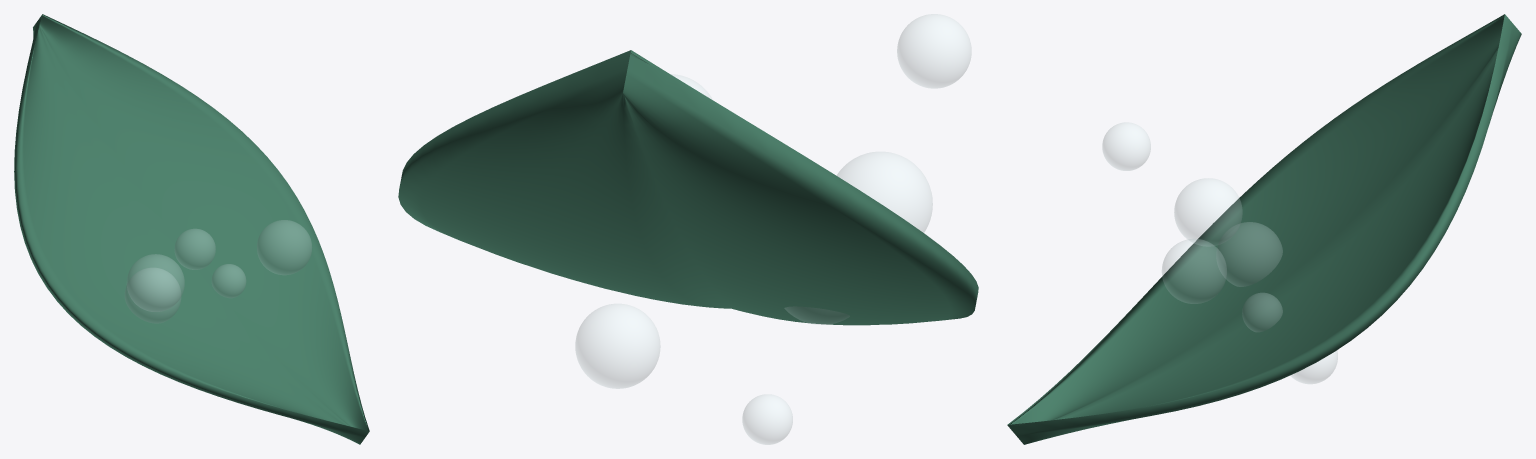
3 renders of one model, left to right at view 1: azimuth 30°, elevation 25°; view 2: azimuth 150°, elevation 25°; view 3: azimuth 270°, elevation 25°, orthographic. The views are drawn at different scales.
Visible parts, largest first — view 1: dew-leaf, dew-drop-4, dew-drop-2, dew-drop-1, dew-drop-5, dew-drop-3; view 2: dew-leaf, dew-drop-0, dew-drop-5, dew-drop-4, dew-drop-6, dew-drop-2; view 3: dew-leaf, dew-drop-4, dew-drop-1, dew-drop-2, dew-drop-5, dew-drop-3, dew-drop-0.
Part boxes in pixels (bbox=[...]): dew-leaf: bbox=[14, 14, 369, 444]; dew-drop-4: bbox=[127, 254, 184, 311]; dew-drop-2: bbox=[125, 268, 180, 323]; dew-drop-1: bbox=[257, 220, 311, 274]; dew-drop-5: bbox=[174, 229, 215, 269]; dew-drop-3: bbox=[212, 264, 245, 297]; dew-leaf: bbox=[398, 50, 978, 325]; dew-drop-0: bbox=[575, 304, 660, 388]; dew-drop-5: bbox=[897, 14, 971, 88]; dew-drop-4: bbox=[837, 152, 932, 232]; dew-drop-6: bbox=[742, 394, 792, 444]; dew-drop-2: bbox=[784, 306, 849, 324]; dew-leaf: bbox=[1007, 14, 1521, 444]; dew-drop-4: bbox=[1174, 178, 1242, 245]; dew-drop-1: bbox=[1162, 239, 1226, 303]; dew-drop-2: bbox=[1217, 222, 1282, 286]; dew-drop-5: bbox=[1102, 122, 1150, 170]; dew-drop-3: bbox=[1242, 293, 1282, 331]; dew-drop-0: bbox=[1290, 351, 1337, 383].
Bounding box in the file's own units: 1.07 × 1.12 × 1.43.
